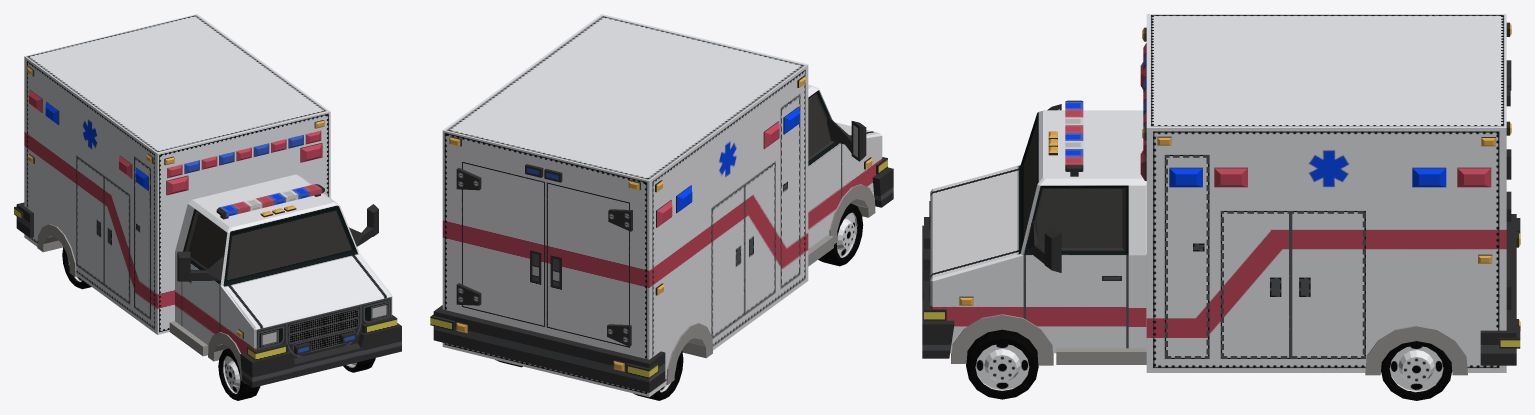
Rendered from Ambulance .obj.
3 views of the same model, side by side, from view 1: azimuth 30°, elevation 25°; view 2: azimuth 150°, elevation 25°; view 3: azimuth 270°, elevation 25° (orthographic). The views are drawn at different scales.
Visible parts, largest first — view 1: Ambulance1, Front_Wheels; view 2: Ambulance1, Front_Wheels, Back_Wheels; view 3: Ambulance1, Front_Wheels, Back_Wheels.
Boxes of the visible parts, box(x1,y1,x2,y2) form: Ambulance1: box(14, 14, 401, 387); Front_Wheels: box(218, 348, 375, 400); Ambulance1: box(430, 14, 893, 397); Front_Wheels: box(818, 203, 863, 266); Back_Wheels: box(495, 350, 683, 400); Ambulance1: box(922, 14, 1520, 375); Front_Wheels: box(966, 329, 1038, 399); Back_Wheels: box(1381, 341, 1452, 400).
Size of the model in its own units: 173 by 175 by 332.
Materials: 1 (1 with a texture image).
